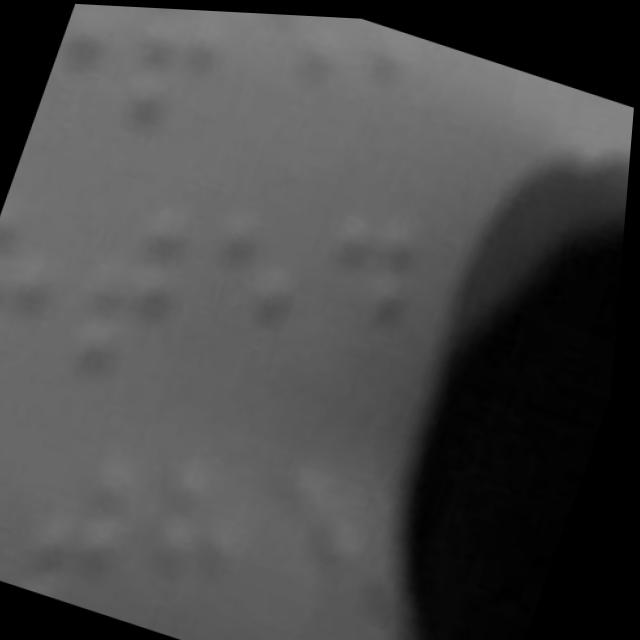braiile: (68, 182, 221, 398), (129, 434, 282, 640), (182, 190, 325, 391), (28, 435, 170, 616), (102, 5, 251, 148), (0, 195, 98, 398), (225, 10, 359, 158), (32, 2, 128, 142)
